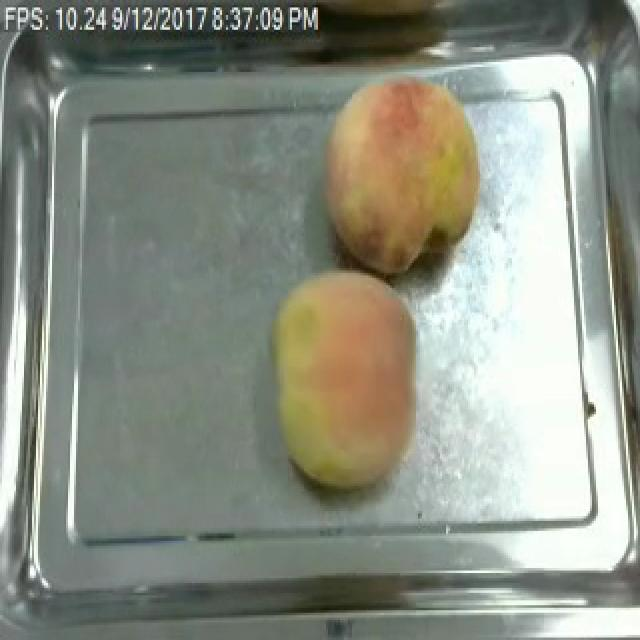Fruit: (310, 64, 492, 286), (264, 263, 428, 496)
